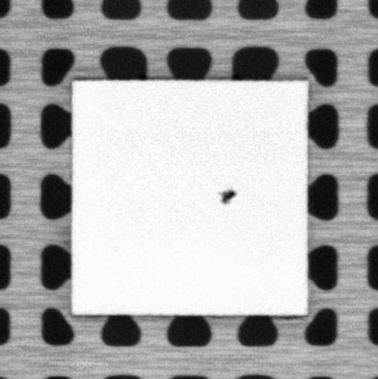DIE_INK: (218, 188, 237, 205)
